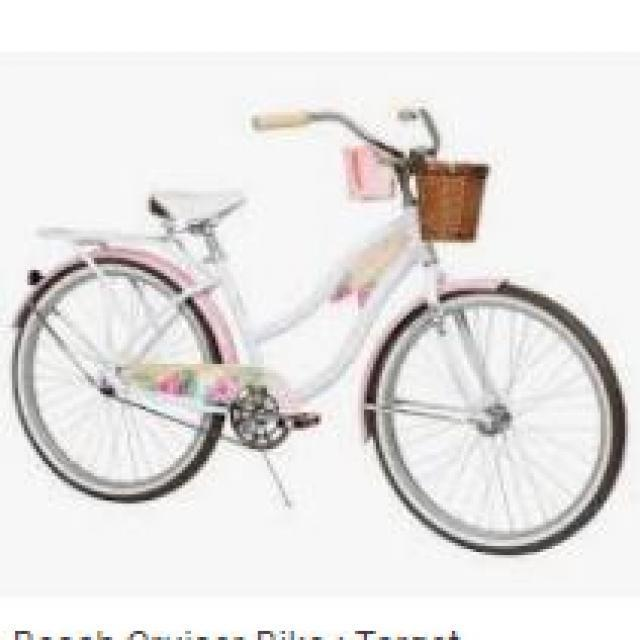bicycle: (22, 98, 626, 556)
